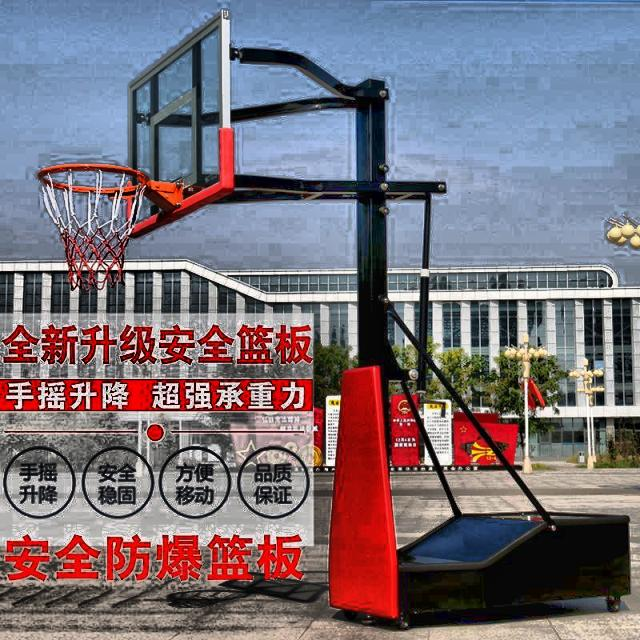rim: (38, 164, 150, 291)
